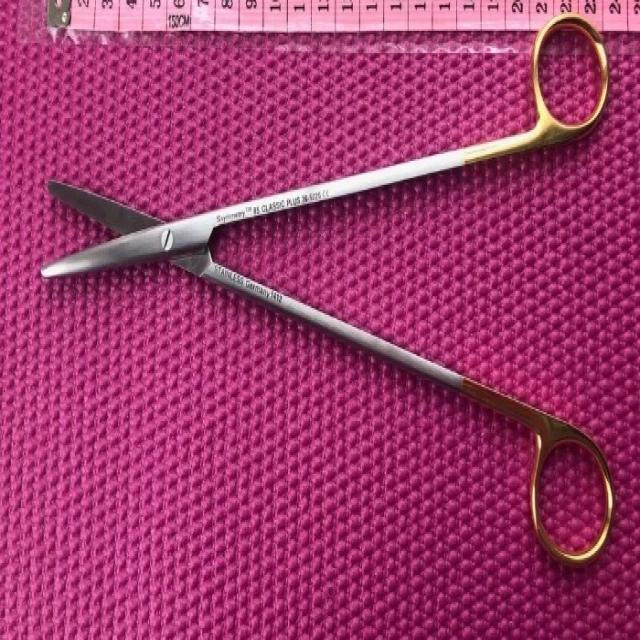Metzenbaum Sciccors: (31, 8, 620, 580)
